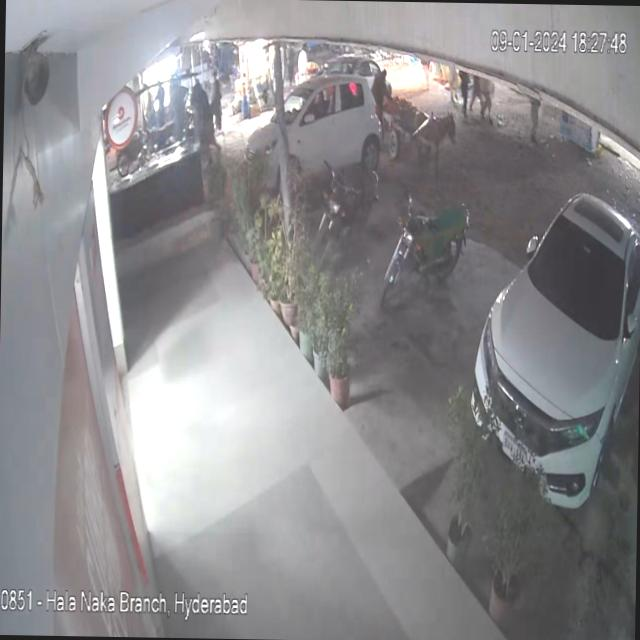Car: (468, 172, 640, 528), (243, 74, 400, 200)
Motorcycle: (366, 180, 472, 315), (306, 149, 378, 261)
